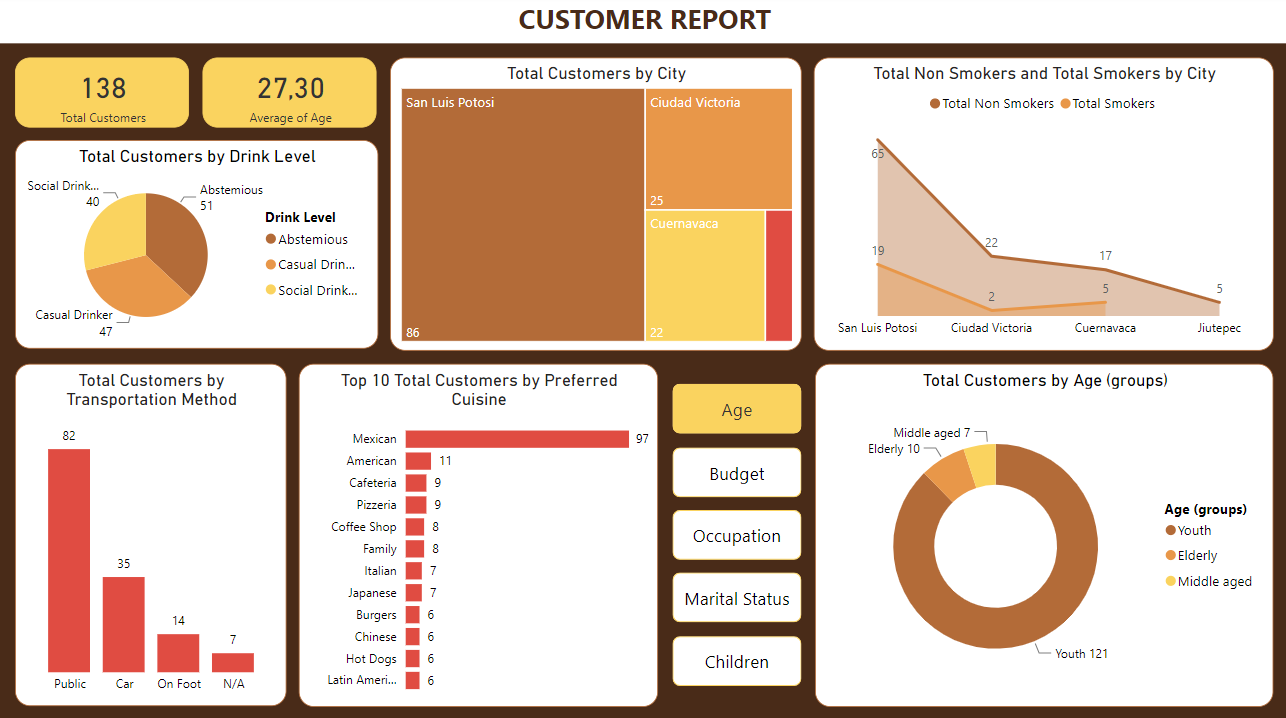

The dashboard page shown, as its layout file describes it:
{"tool":"powerbi","page":{"name":"Customer Report","canvas":[1280,720],"ordinal":2},"visuals":[{"type":"donutChart","title":"Total Customers by Age (groups)","fields":{"Category":["consumers.Age (groups)"],"Y":["Count(consumers.Consumer ID)"]},"box":[809.3,365.9,455.3,341],"z":0,"group":"g2"},{"type":"shape","title":"Shape 1''","box":[668.2,385.5,128,49.3],"z":1000,"group":"g1"},{"type":"shape","title":"Shape 1","box":[668.2,385.5,128,49.3],"z":2000,"group":"g1"},{"type":"shape","title":"Shape 2''","box":[668.2,448.4,128,49.3],"z":4000,"group":"g1"},{"type":"group","id":"g1","title":"Group 1","box":[668.2,385.5,128.5,301.6],"z":5000},{"type":"group","id":"g2","title":"Group 2","box":[808.5,365.9,456.9,340.9],"z":5500},{"type":"clusteredBarChart","title":" Top 10 Total Customers by Preferred Cuisine","fields":{"Category":["consumer_preferences.Preferred_Cuisine"],"Y":["Count(consumer_preferences.Consumer ID)"]},"box":[296.3,365.9,356.6,340.9],"z":6000},{"type":"pieChart","title":"Total Customers by Drink Level","fields":{"Category":["consumers.Drink_Level"],"Y":["Count(consumers.Consumer_ID)"]},"box":[14.3,144.6,360.5,207],"z":7000},{"type":"shape","title":"Shape 3''","box":[668.2,511.2,128,49.3],"z":7000,"group":"g1"},{"type":"clusteredColumnChart","title":"Total Customers by Transportation Method","fields":{"Category":["consumers.Transportation_Method"],"Y":["Count(consumers.Consumer ID)"]},"box":[14.3,366.6,269.5,340.2],"z":8000},{"type":"areaChart","fields":{"Category":["consumers.City"],"Y":["facts.Total Non Smokers","facts.Total Smokers"]},"box":[808.5,62.5,456.9,290.9],"z":9000},{"type":"textbox","box":[0,0,1280.6,47.8],"z":10000},{"type":"shape","title":"Shape 4''","box":[668.2,572.9,128,49.3],"z":10000,"group":"g1"},{"type":"treemap","title":"Total Customers by City","fields":{"Group":["consumers.City"],"Values":["Count(consumers.Consumer ID)"]},"box":[387.3,62.5,408.7,290.9],"z":11000},{"type":"card","fields":{"Values":["Count(consumers.Consumer_ID)"]},"box":[14.9,62.1,173,69.5],"z":12000},{"type":"card","fields":{"Values":["Avg(consumers.Age)"]},"box":[201.7,62.5,173.1,69.6],"z":13000},{"type":"shape","title":"Shape 5''","box":[668.2,635.8,128,49.3],"z":13000,"group":"g1"}]}

Visuals, with their boxes in screenshot pixels (x1, y1, x2, y2), scaled from the page's 1280x720 canvas onto the 1286x718 screenshot:
"Total Customers by Age (groups)" donutChart: <region>813, 365, 1271, 705</region>
"Shape 1''" shape: <region>671, 384, 800, 434</region>
"Shape 1" shape: <region>671, 384, 800, 434</region>
"Shape 2''" shape: <region>671, 447, 800, 496</region>
"Group 1" group: <region>671, 384, 800, 685</region>
"Group 2" group: <region>812, 365, 1271, 705</region>
" Top 10 Total Customers by Preferred Cuisine" clusteredBarChart: <region>298, 365, 656, 705</region>
"Total Customers by Drink Level" pieChart: <region>14, 144, 377, 351</region>
"Shape 3''" shape: <region>671, 510, 800, 559</region>
"Total Customers by Transportation Method" clusteredColumnChart: <region>14, 366, 285, 705</region>
areaChart - consumers.City x facts.Total Non Smokers: <region>812, 62, 1271, 352</region>
textbox: <region>0, 0, 1285, 48</region>
"Shape 4''" shape: <region>671, 571, 800, 620</region>
"Total Customers by City" treemap: <region>389, 62, 800, 352</region>
card - Count(consumers.Consumer_ID): <region>15, 62, 189, 131</region>
card - Avg(consumers.Age): <region>203, 62, 377, 132</region>
"Shape 5''" shape: <region>671, 634, 800, 683</region>
